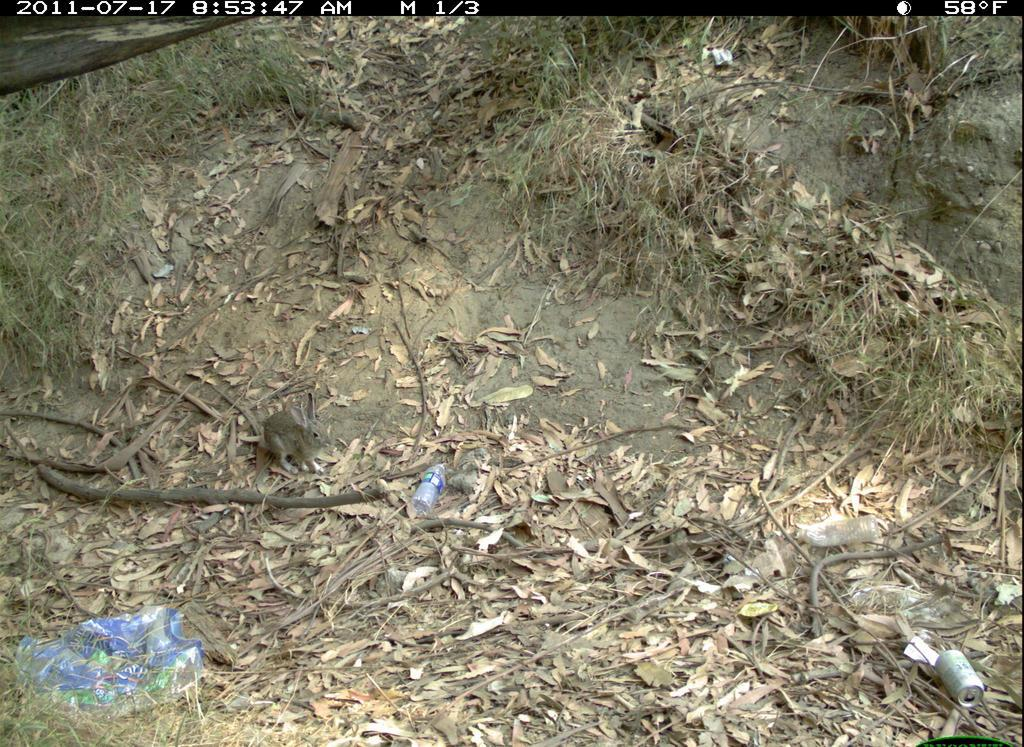rabbit: (255, 386, 335, 488)
